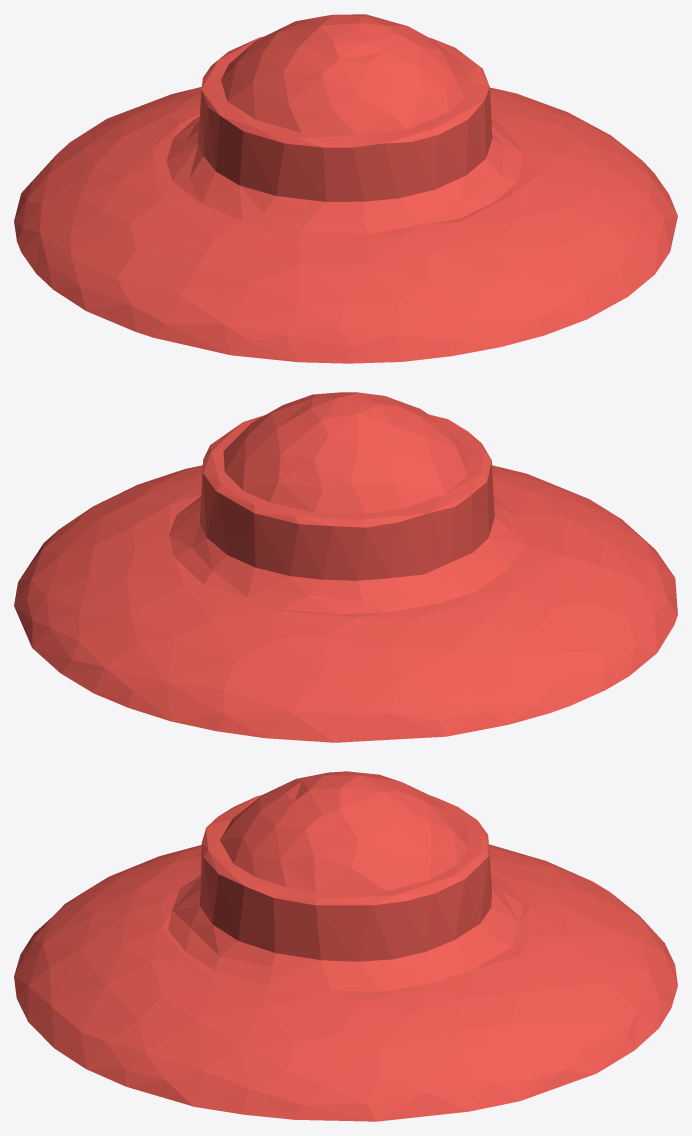
File: hit_ufo.dae
The picture shows the model from 3 angles, top to bottom: view 1: azimuth 30°, elevation 25°; view 2: azimuth 150°, elevation 25°; view 3: azimuth 270°, elevation 25°; orthographic projection.
Parts seen in each view (by area): view 1: Haneubu+uf; view 2: Haneubu+uf; view 3: Haneubu+uf.
Part boxes in pixels (<box>): Haneubu+uf: <box>14,14,677,363</box>; Haneubu+uf: <box>14,392,677,742</box>; Haneubu+uf: <box>14,771,677,1121</box>.
Bounding box in the file's own units: 1.91 × 1.91 × 0.7402.
